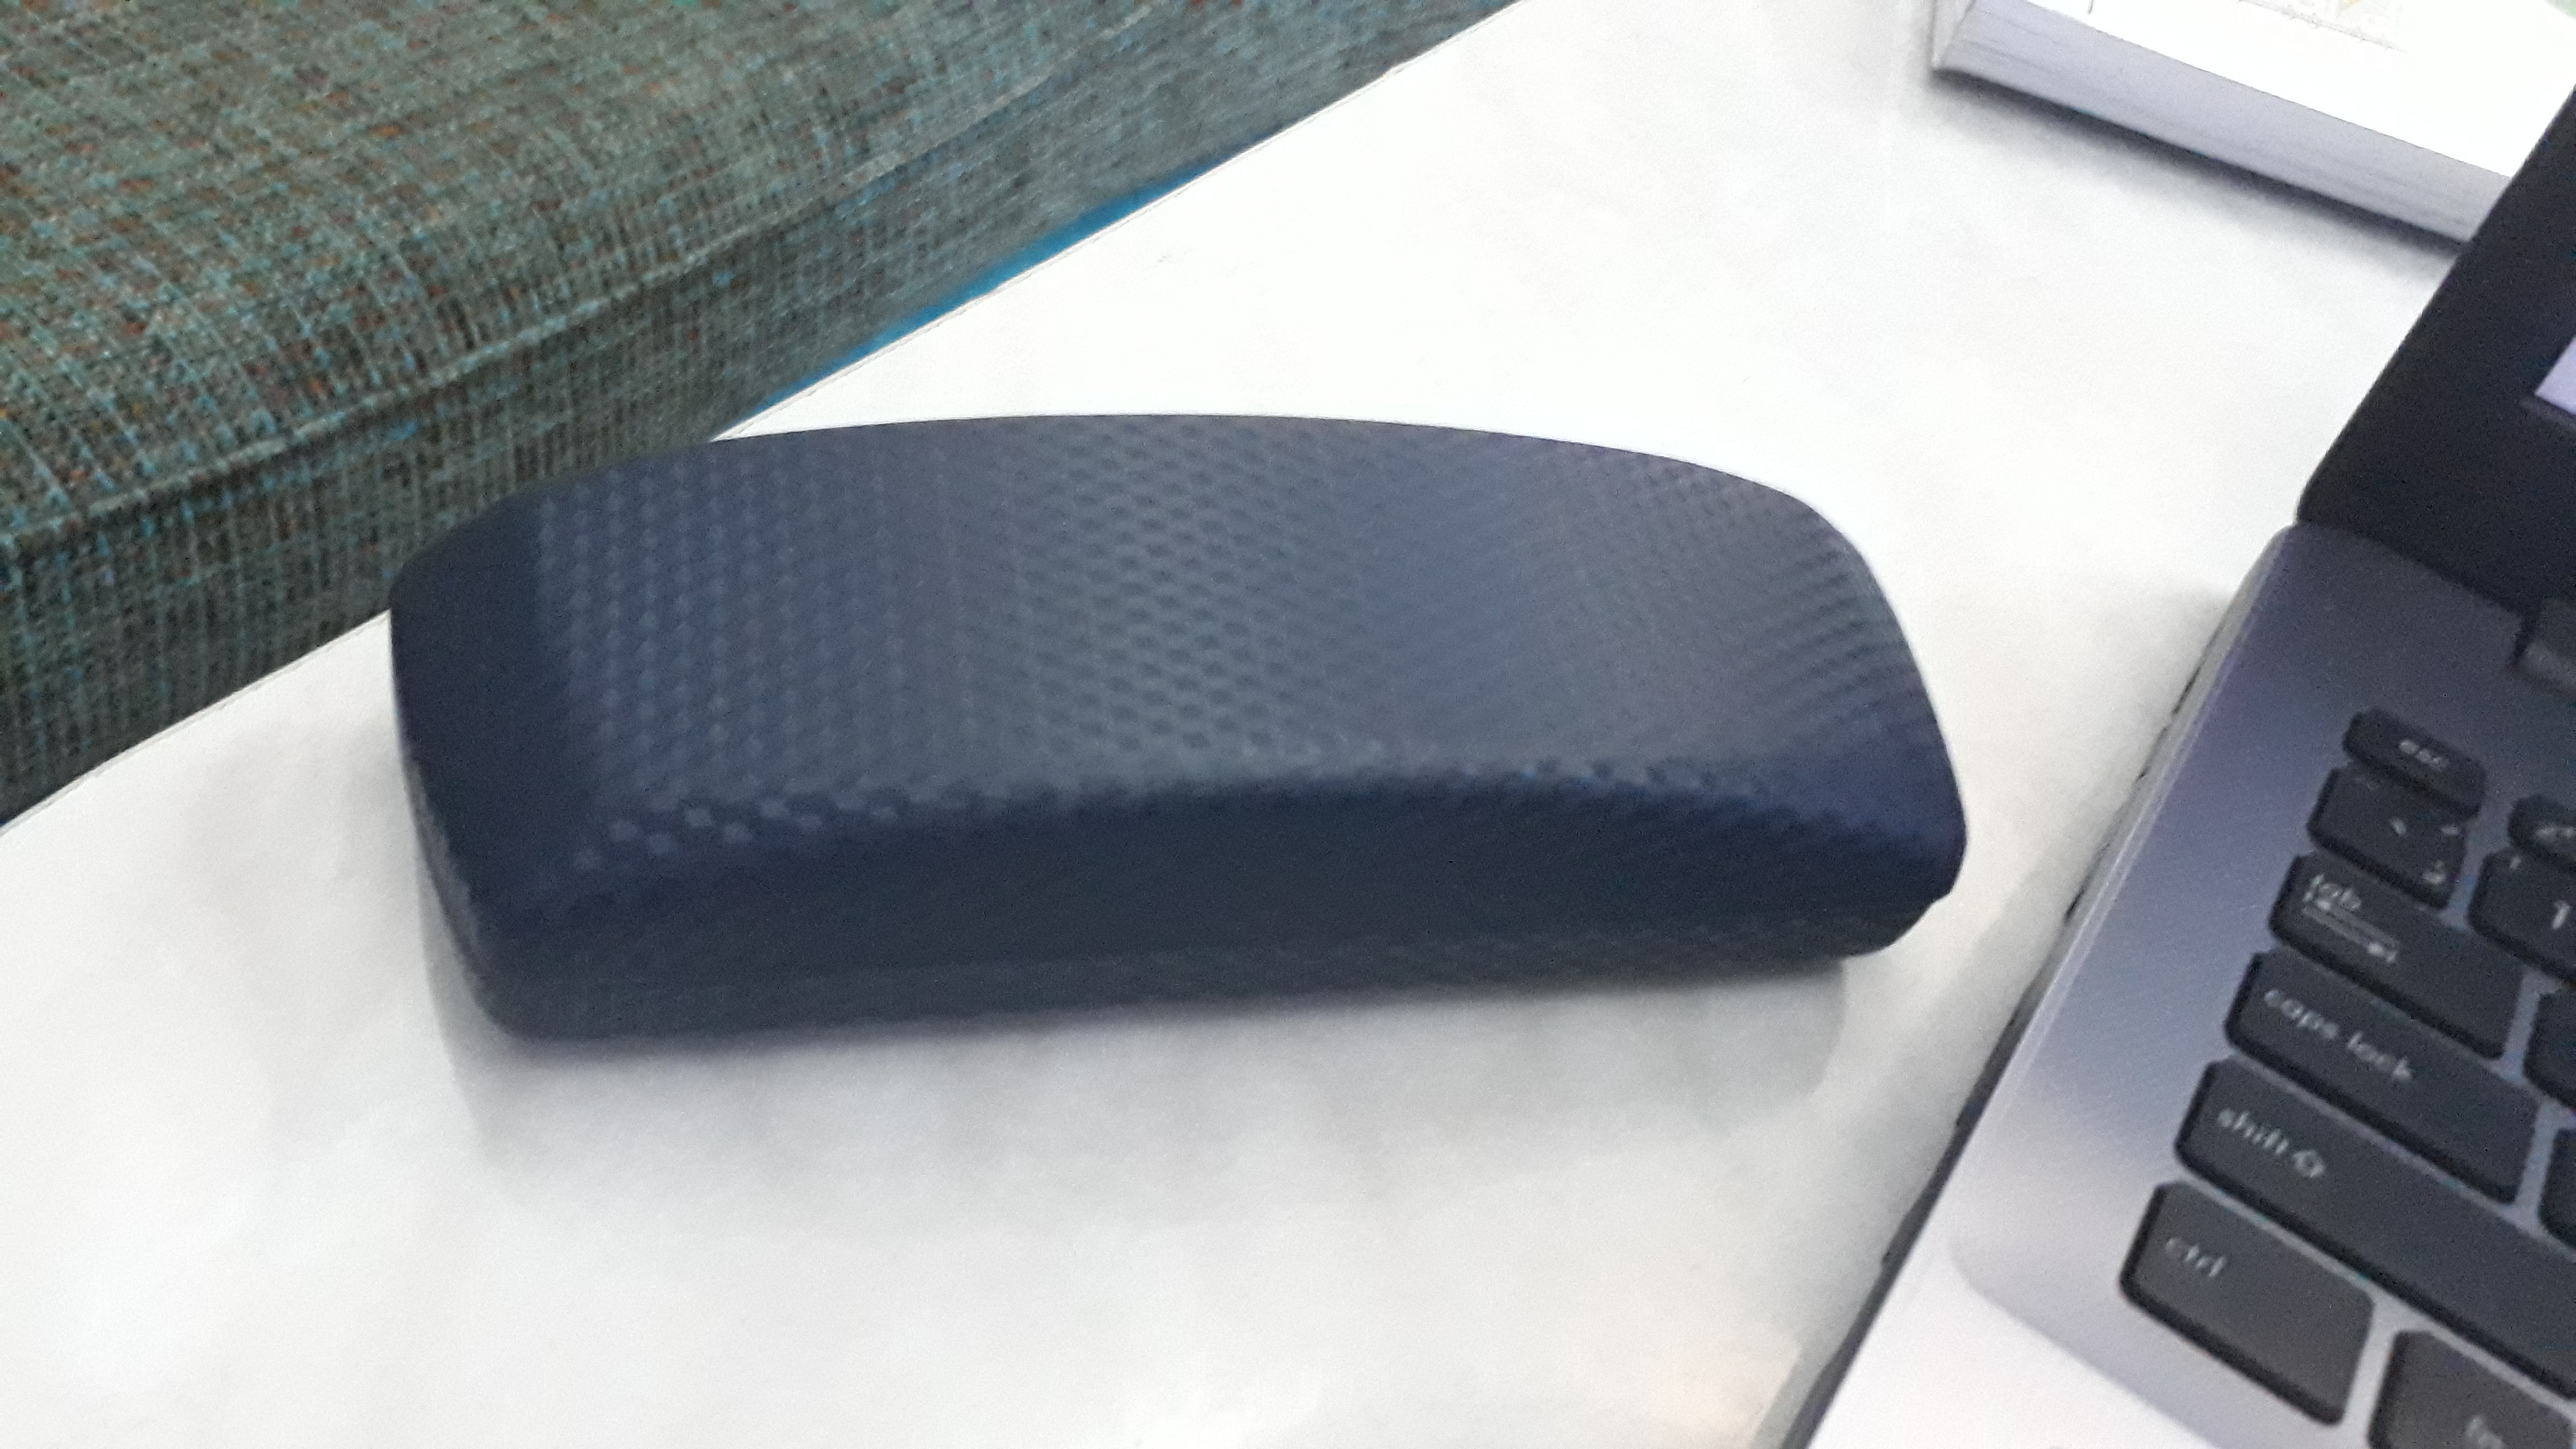nadar: (386, 375, 1990, 1072)
